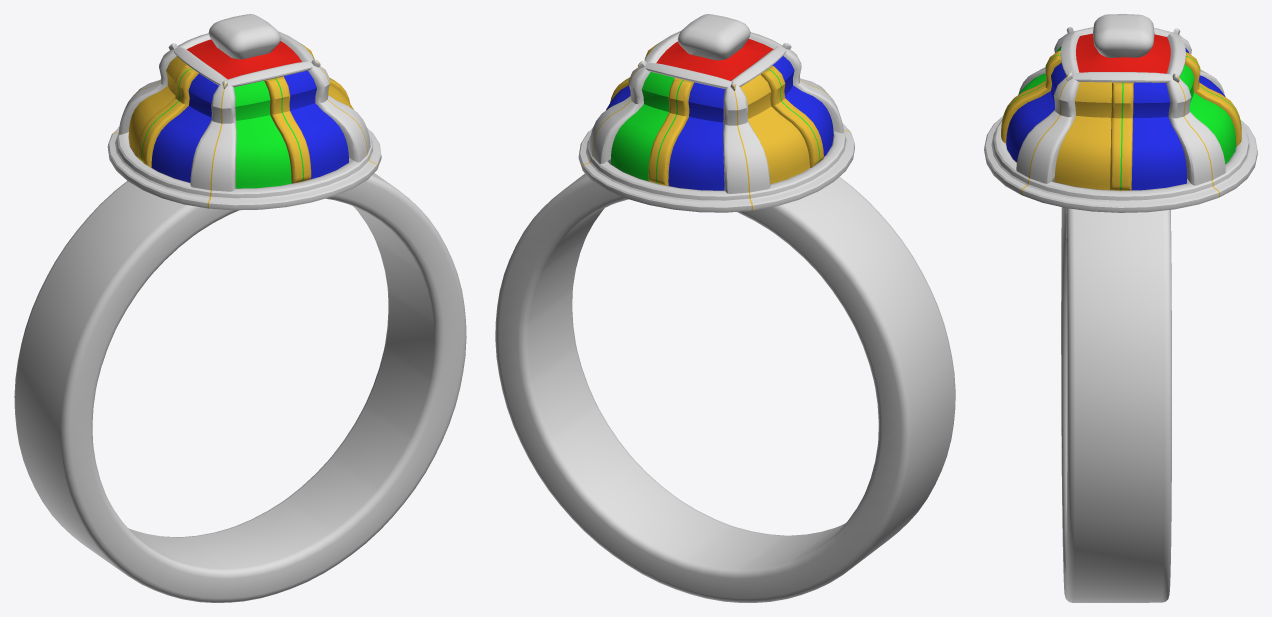
File: jewellary 3.glb
The picture shows the model from 3 angles, left to right: view 1: azimuth 30°, elevation 25°; view 2: azimuth 150°, elevation 25°; view 3: azimuth 270°, elevation 25°; orthographic projection.
Parts seen in each view (by area): view 1: Ring.001; view 2: Ring.001; view 3: Ring.001.
Part boxes in pixels (x1,y1,x2,y2): Ring.001: [14, 14, 466, 602]; Ring.001: [495, 14, 955, 602]; Ring.001: [984, 14, 1257, 602].
Bounding box in the file's own units: 0.5341 × 0.6904 × 0.3042.
